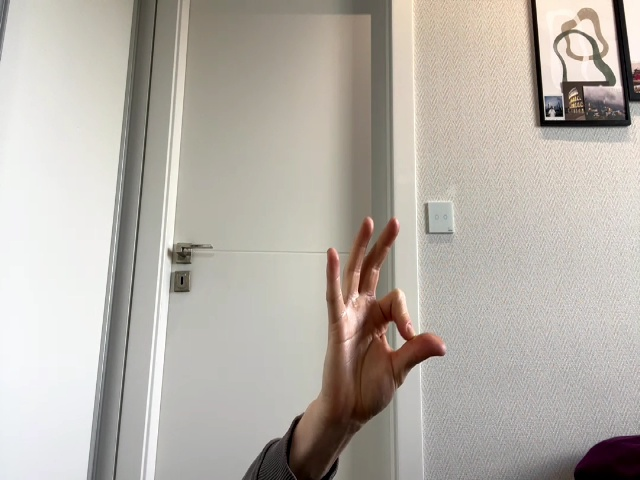S: (327, 217, 446, 416)
